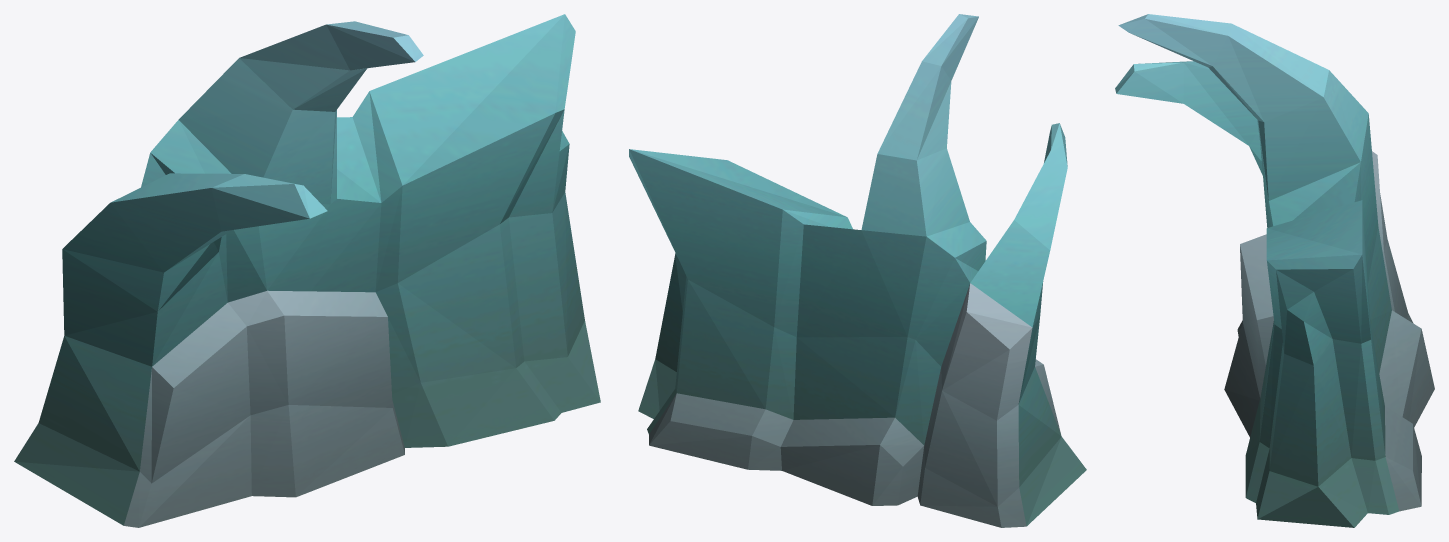
Rendered from cliffb_ice.FBX.
The picture shows the model from 3 angles, left to right: view 1: azimuth 30°, elevation 25°; view 2: azimuth 150°, elevation 25°; view 3: azimuth 270°, elevation 25°; orthographic projection. The views are drawn at different scales.
Visible parts, largest first — view 1: cliffb_ice; view 2: cliffb_ice; view 3: cliffb_ice.
Part boxes in pixels (<box>): cliffb_ice: <box>14,14,600,527</box>; cliffb_ice: <box>629,14,1086,527</box>; cliffb_ice: <box>1115,14,1434,527</box>.
Bounding box in the file's own units: 33.82 × 29.16 × 21.31.
